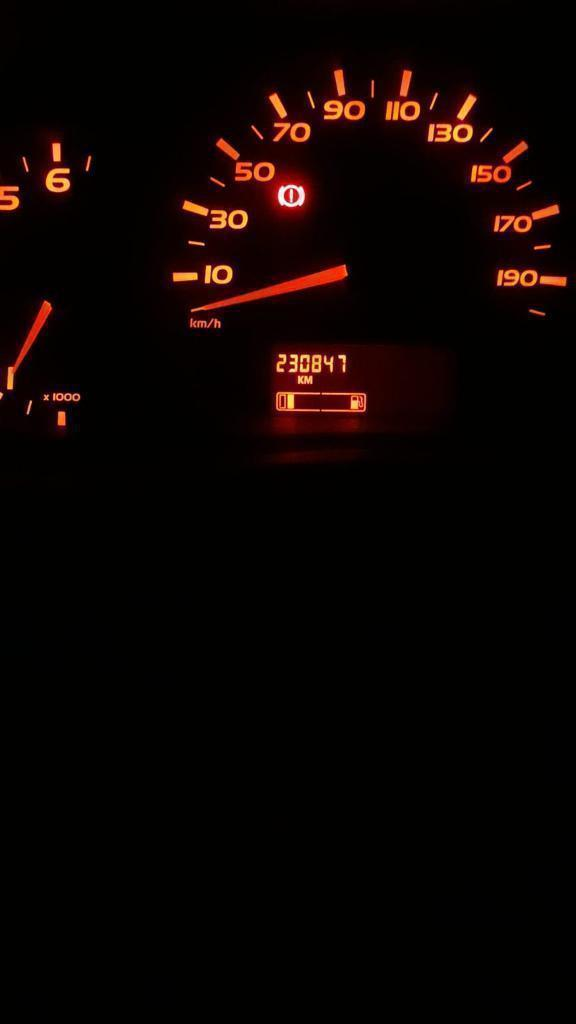0: (299, 353, 310, 373)
2: (275, 352, 287, 373)
3: (288, 352, 298, 373)
4: (323, 353, 334, 374)
7: (337, 352, 348, 373)
8: (312, 353, 322, 373)
X: (304, 374, 312, 384), (297, 374, 303, 384)
odometer: (264, 343, 384, 428)
